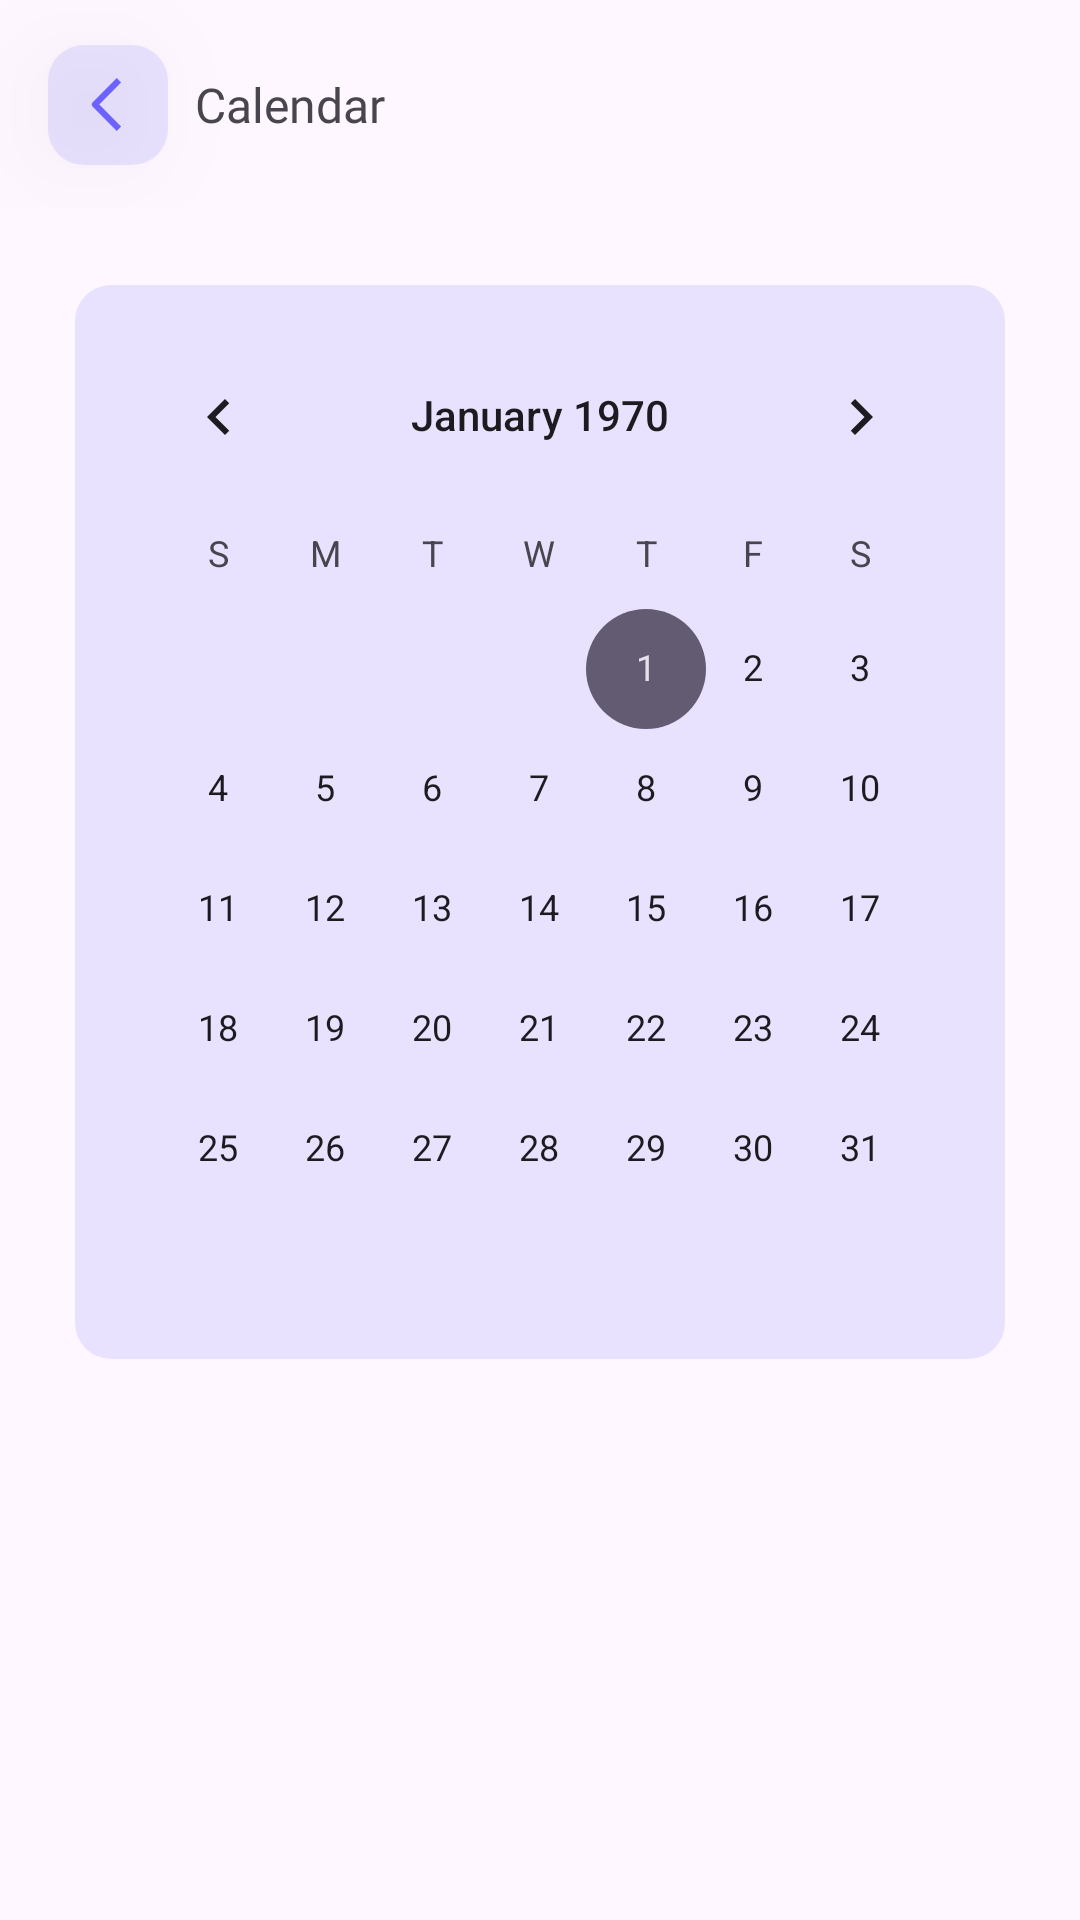

Named icons in this screenshot (1080 x 1920) and their bounding boxes, {"x1": x1, "y1": y1, "x2": x2, "y2": y2}:
back: {"x1": 91, "y1": 78, "x2": 121, "y2": 131}
